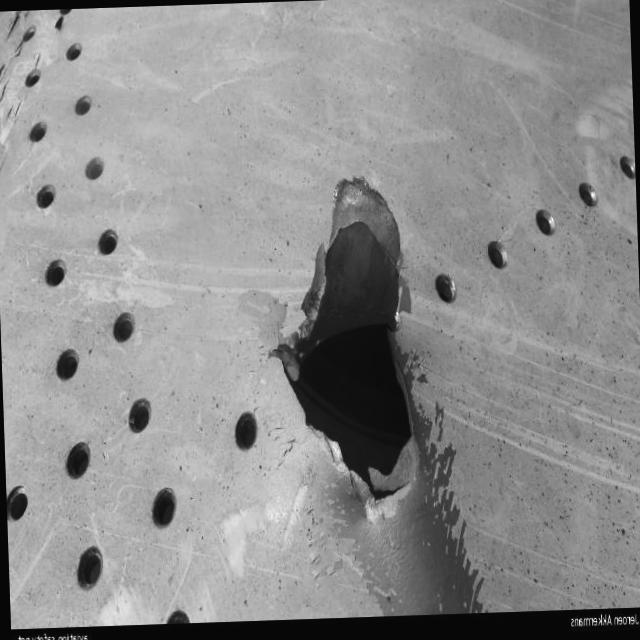crack: (259, 174, 420, 517)
